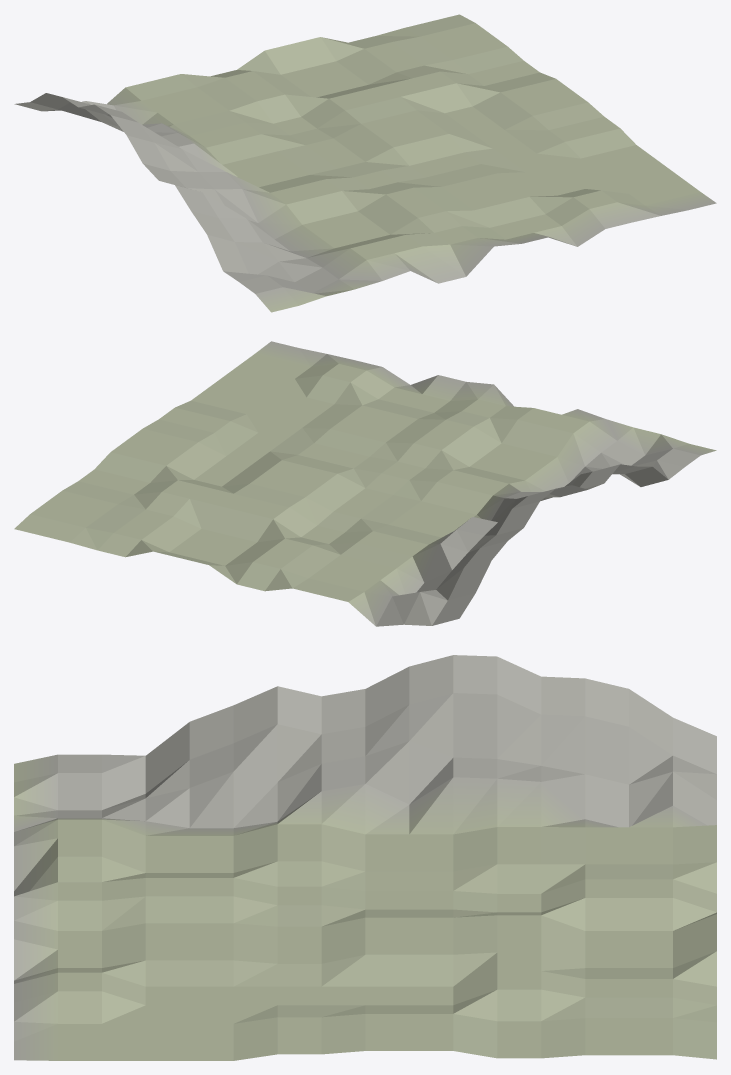
The picture shows the model from 3 angles, top to bottom: view 1: azimuth 30°, elevation 25°; view 2: azimuth 150°, elevation 25°; view 3: azimuth 270°, elevation 25°; orthographic projection. The views are drawn at different scales.
Size of the model in its own units: 32 by 6.28 by 32.
